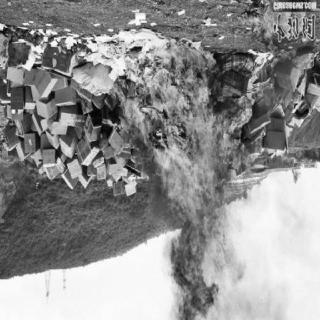Fire: (108, 40, 256, 318)
